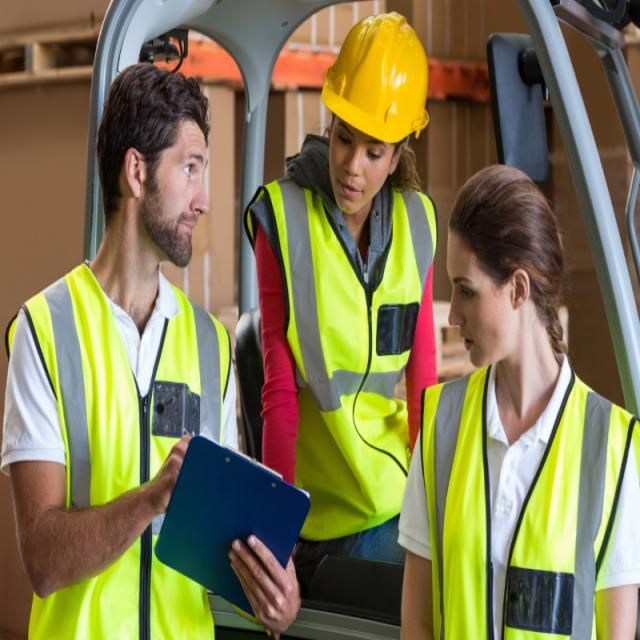secure person: (248, 14, 437, 542)
unsecured person: (0, 63, 253, 640), (421, 166, 640, 640)
